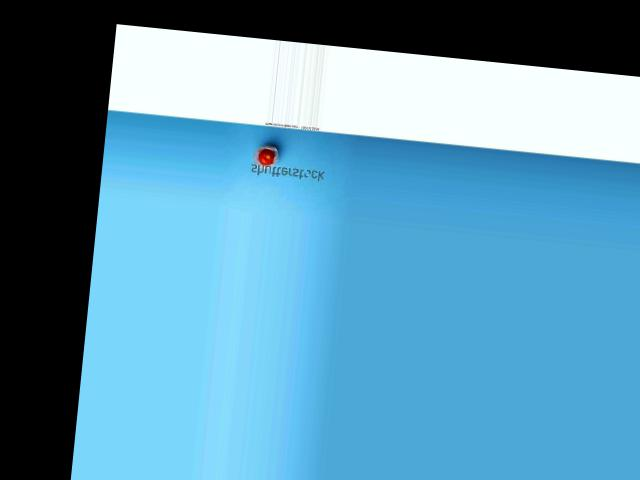tomato: (259, 148, 275, 165)
